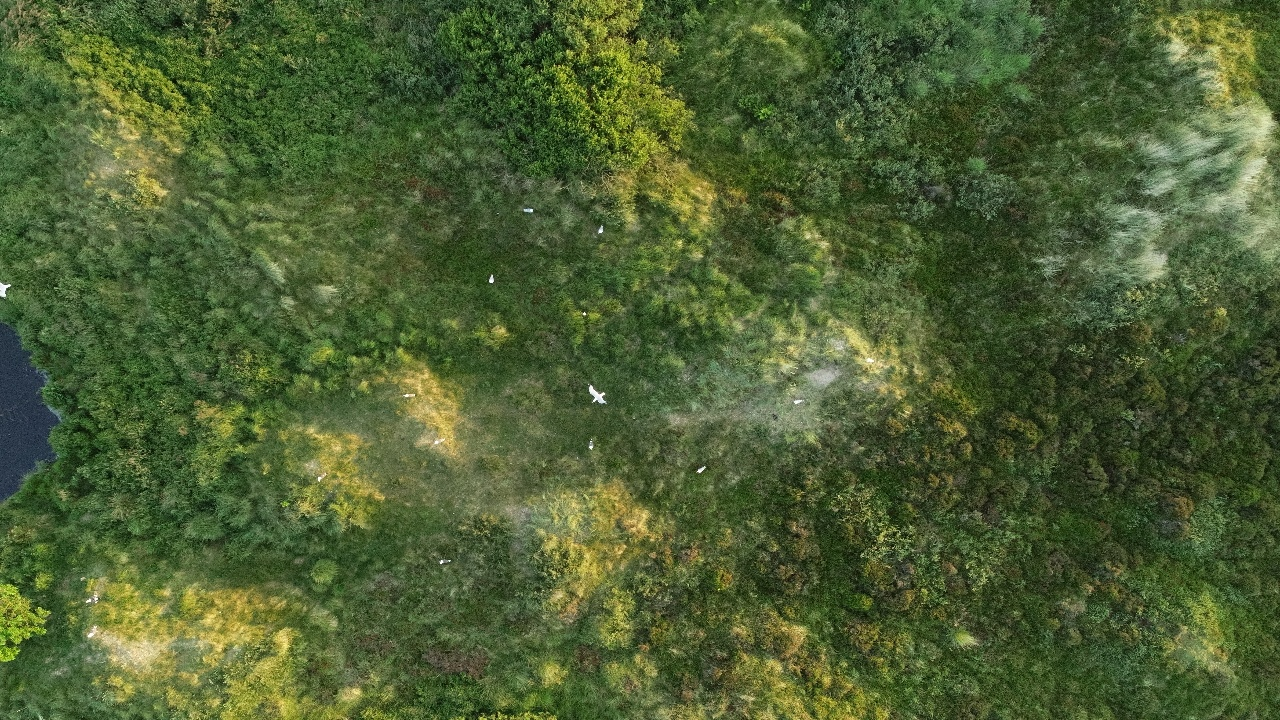Bird: (80, 621, 110, 649), (80, 585, 110, 613), (513, 197, 542, 225), (586, 214, 615, 242), (476, 263, 505, 291), (584, 382, 613, 410), (393, 382, 422, 410), (309, 461, 338, 489), (426, 428, 455, 456), (431, 547, 460, 575), (576, 433, 605, 461), (685, 454, 714, 482), (784, 388, 813, 416)
